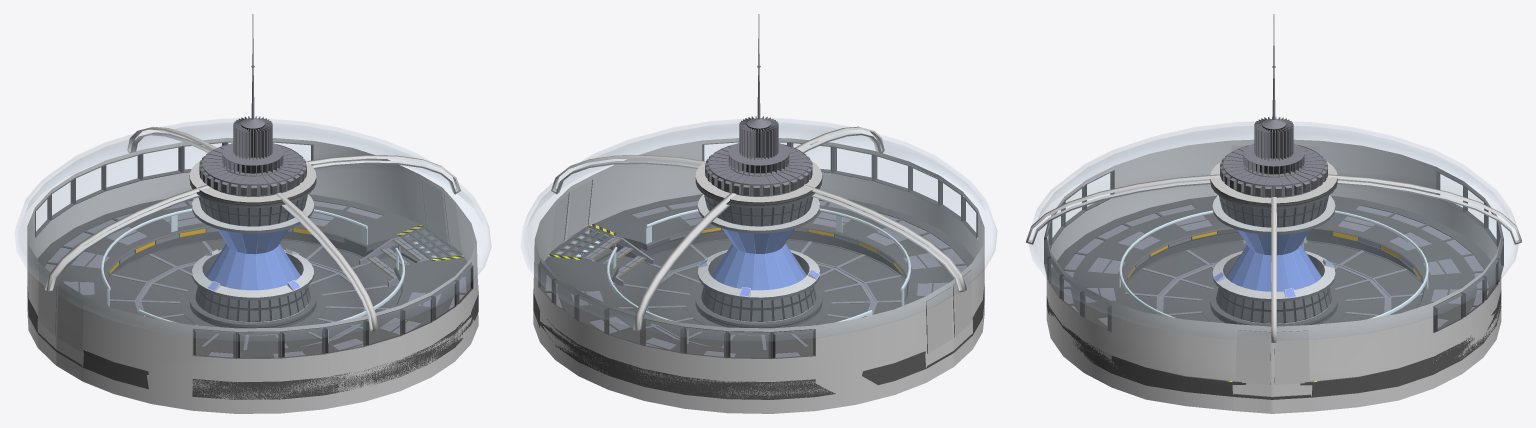
Rendered from Sci-Fi-Bridge.fbx.
3 views of the same model, side by side, from view 1: azimuth 30°, elevation 25°; view 2: azimuth 150°, elevation 25°; view 3: azimuth 270°, elevation 25° (orthographic).
Visible parts, largest first — view 1: Mesh_4, Mesh_6.001, Mesh_6, Mesh_1, Mesh_9, Mesh_5, Mesh_7, Mesh_1.001, Holograma, Mesh_5.003, Mesh_5.001, Barra (+1 smaller); view 2: Mesh_4, Mesh_6.001, Mesh_6, Mesh_1, Mesh_5, Mesh_9, Mesh_7, Mesh_1.001, Holograma, Mesh_5.001, Mesh_5.003, Barra (+1 smaller); view 3: Mesh_4, Mesh_6.001, Mesh_6, Mesh_1, Mesh_5, Mesh_9, Mesh_7, Mesh_1.001, Holograma, Mesh_5.001, Mesh_5.003, Barra (+1 smaller).
Part boxes in pixels (left/top/right/bottom): Mesh_4: left=15, top=119, right=490, bottom=340; Mesh_6.001: left=27, top=138, right=478, bottom=413; Mesh_6: left=27, top=194, right=478, bottom=399; Mesh_1: left=189, top=14, right=316, bottom=233; Mesh_9: left=38, top=126, right=461, bottom=352; Mesh_5: left=37, top=180, right=465, bottom=367; Mesh_7: left=45, top=200, right=466, bottom=358; Mesh_1.001: left=180, top=248, right=325, bottom=335; Holograma: left=205, top=229, right=300, bottom=290; Mesh_5.003: left=193, top=262, right=473, bottom=358; Mesh_5.001: left=35, top=141, right=313, bottom=237; Barra: left=101, top=208, right=404, bottom=343; Mesh_4: left=521, top=119, right=996, bottom=341; Mesh_6.001: left=533, top=138, right=984, bottom=413; Mesh_6: left=533, top=194, right=984, bottom=399; Mesh_1: left=695, top=14, right=822, bottom=233; Mesh_5: left=545, top=180, right=973, bottom=368; Mesh_9: left=550, top=126, right=972, bottom=353; Mesh_7: left=545, top=200, right=966, bottom=357; Mesh_1.001: left=693, top=249, right=822, bottom=328; Holograma: left=711, top=228, right=806, bottom=290; Mesh_5.001: left=538, top=261, right=815, bottom=359; Mesh_5.003: left=702, top=141, right=977, bottom=238; Barra: left=607, top=208, right=910, bottom=343; Mesh_4: left=1028, top=122, right=1519, bottom=340; Mesh_6.001: left=1046, top=139, right=1501, bottom=413; Mesh_6: left=1046, top=195, right=1501, bottom=397; Mesh_1: left=1210, top=14, right=1337, bottom=234; Mesh_5: left=1059, top=204, right=1488, bottom=399; Mesh_9: left=1026, top=145, right=1521, bottom=384; Mesh_7: left=1059, top=204, right=1488, bottom=328; Mesh_1.001: left=1202, top=251, right=1345, bottom=326; Holograma: left=1226, top=230, right=1321, bottom=291; Mesh_5.001: left=1433, top=170, right=1503, bottom=333; Mesh_5.003: left=1044, top=169, right=1114, bottom=332; Barra: left=1119, top=210, right=1428, bottom=318.
Bounding box in the file's own units: 295 × 208 × 305.
